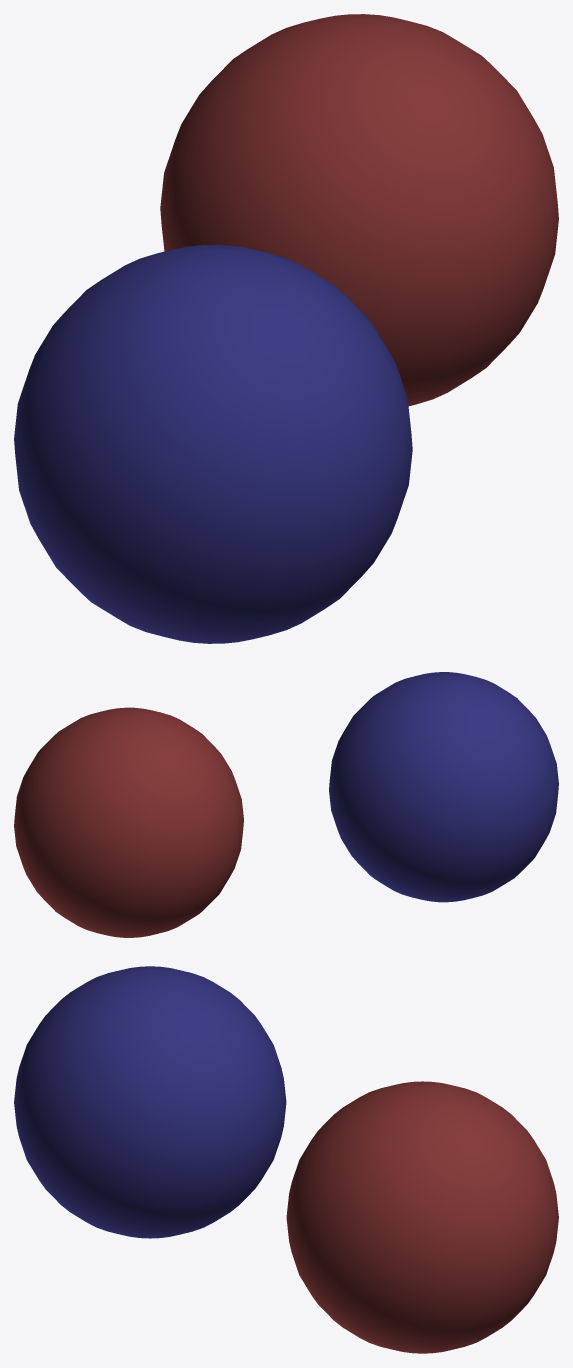
Rendered from spheres.obj.
The picture shows the model from 3 angles, top to bottom: view 1: azimuth 30°, elevation 25°; view 2: azimuth 150°, elevation 25°; view 3: azimuth 270°, elevation 25°; orthographic projection. The views are drawn at different scales.
Parts seen in each view (by area): view 1: Sphere, Sphere.001; view 2: Sphere, Sphere.001; view 3: Sphere, Sphere.001.
Boxes of the visible parts, bbox=[...] form: Sphere: bbox=[14, 244, 412, 643]; Sphere.001: bbox=[160, 14, 558, 406]; Sphere: bbox=[329, 672, 558, 902]; Sphere.001: bbox=[14, 707, 243, 937]; Sphere: bbox=[14, 966, 286, 1238]; Sphere.001: bbox=[286, 1081, 558, 1353].
Size of what is drawn, in the model's own units: 4 by 2 by 4.
